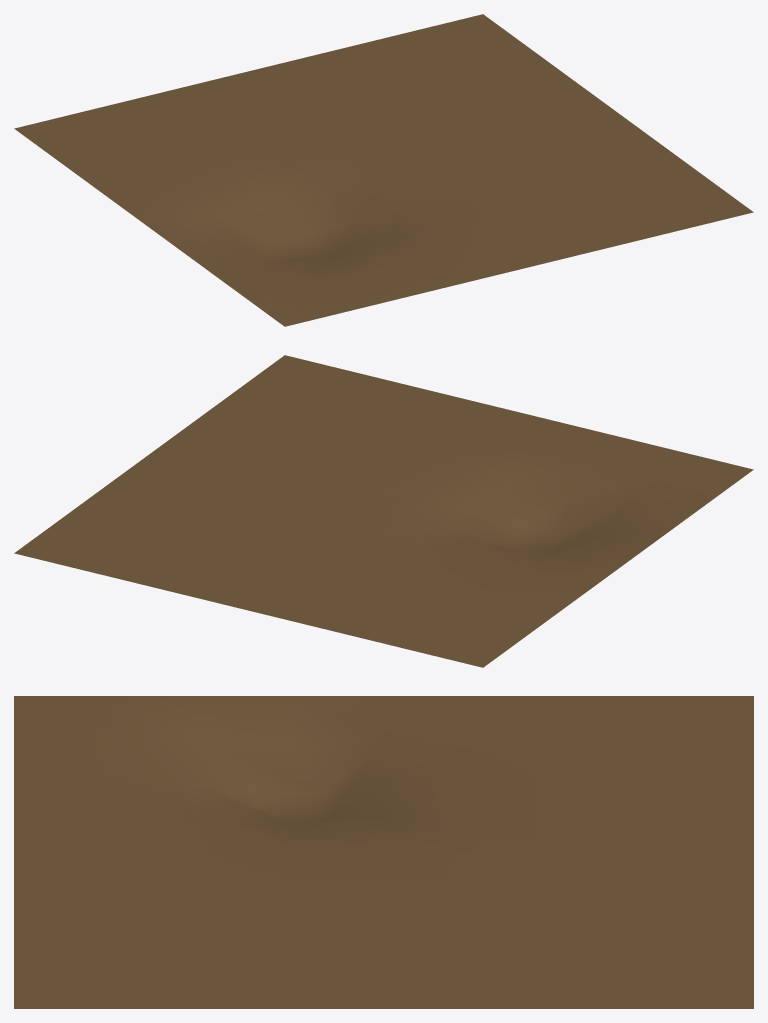
The model's file is Ground_2.fbx.
3 renders of one model, top to bottom at view 1: azimuth 30°, elevation 25°; view 2: azimuth 150°, elevation 25°; view 3: azimuth 270°, elevation 25°, orthographic. The views are drawn at different scales.
Parts seen in each view (by area): view 1: Ground_2; view 2: Ground_2; view 3: Ground_2.
Boxes of the visible parts, bbox=[...] form: Ground_2: bbox=[14, 14, 753, 326]; Ground_2: bbox=[14, 355, 753, 667]; Ground_2: bbox=[14, 696, 753, 1008].
Bounding box in the file's own units: 800 × 40.88 × 800.
